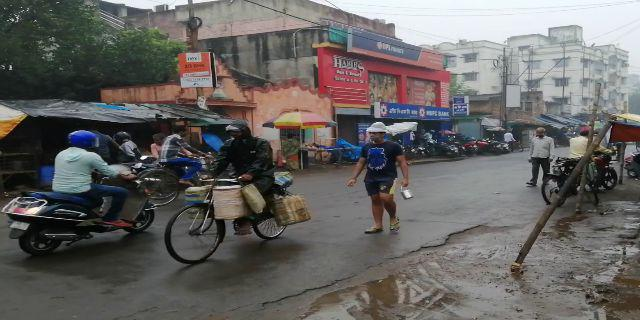Cycle: (161, 120, 298, 264)
Motorbike: (9, 128, 156, 256)
